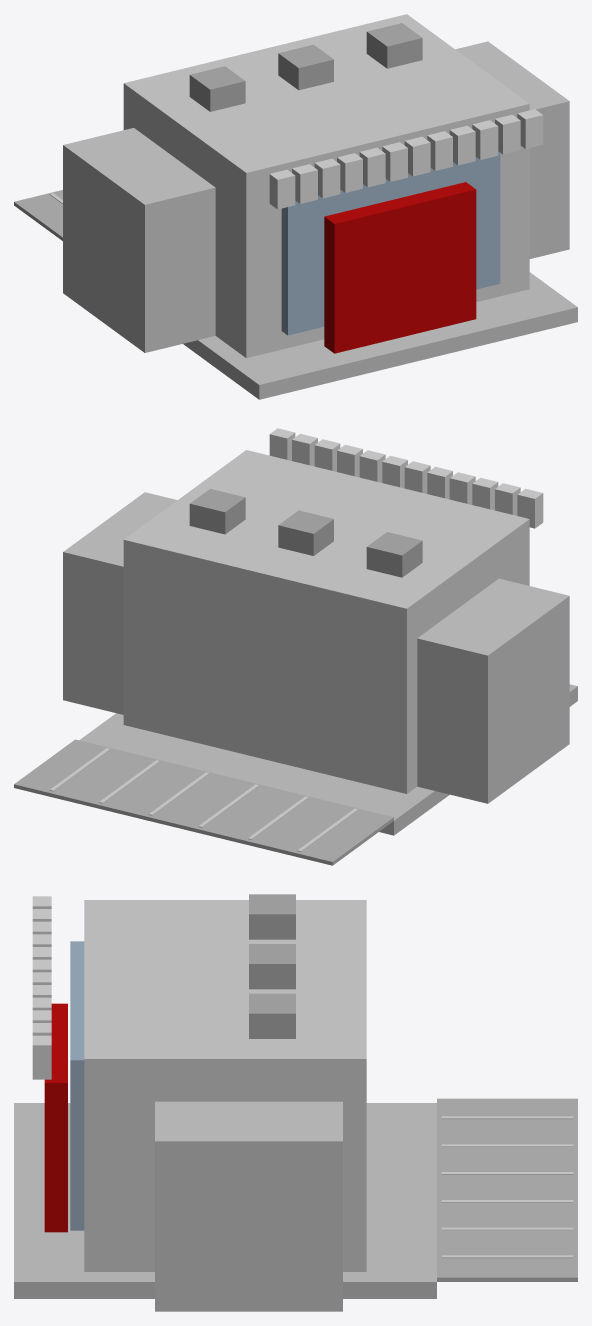
Rendered from bien_del_sur_detailed_9x9.glb.
3 renders of one model, top to bottom at view 1: azimuth 30°, elevation 25°; view 2: azimuth 150°, elevation 25°; view 3: azimuth 270°, elevation 25°, orthographic. The views are drawn at different scales.
Parts seen in each view (by area): view 1: world; view 2: world; view 3: world.
Boxes of the visible parts, box(x1,y1,x2,y2) form: world: box(14, 14, 577, 399); world: box(14, 428, 577, 865); world: box(14, 894, 577, 1311).
Bounding box in the file's own units: 12 × 6 × 12.
